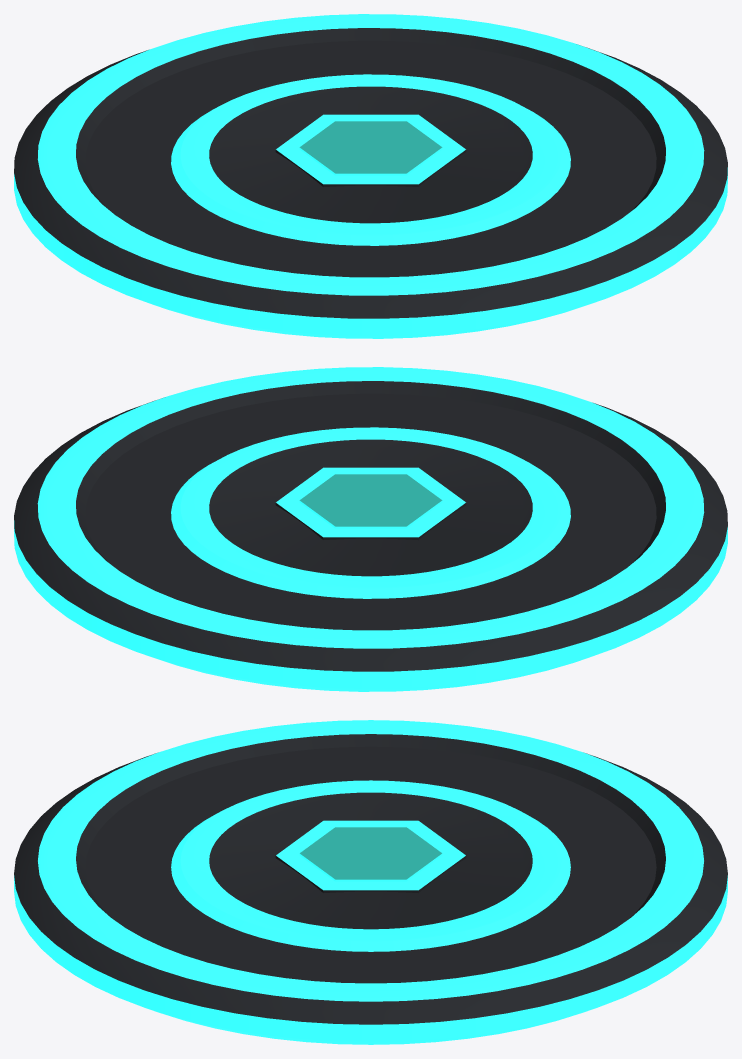
Rendered from disc-azure.glb.
3 renders of one model, top to bottom at view 1: azimuth 30°, elevation 25°; view 2: azimuth 150°, elevation 25°; view 3: azimuth 270°, elevation 25°, orthographic.
Visible parts, largest first — view 1: BlueHero2_Disc; view 2: BlueHero2_Disc; view 3: BlueHero2_Disc.
Part boxes in pixels (box(x1,y1,x2,y2)): BlueHero2_Disc: box(14, 14, 727, 338); BlueHero2_Disc: box(14, 367, 727, 691); BlueHero2_Disc: box(14, 720, 727, 1044).
Size of the model in its own units: 0.3 by 0.027 by 0.3.
